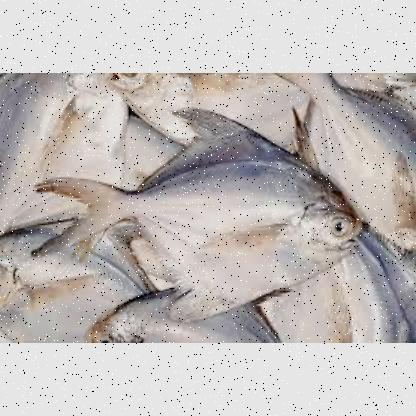ikan-pacu: (46, 119, 360, 300)
